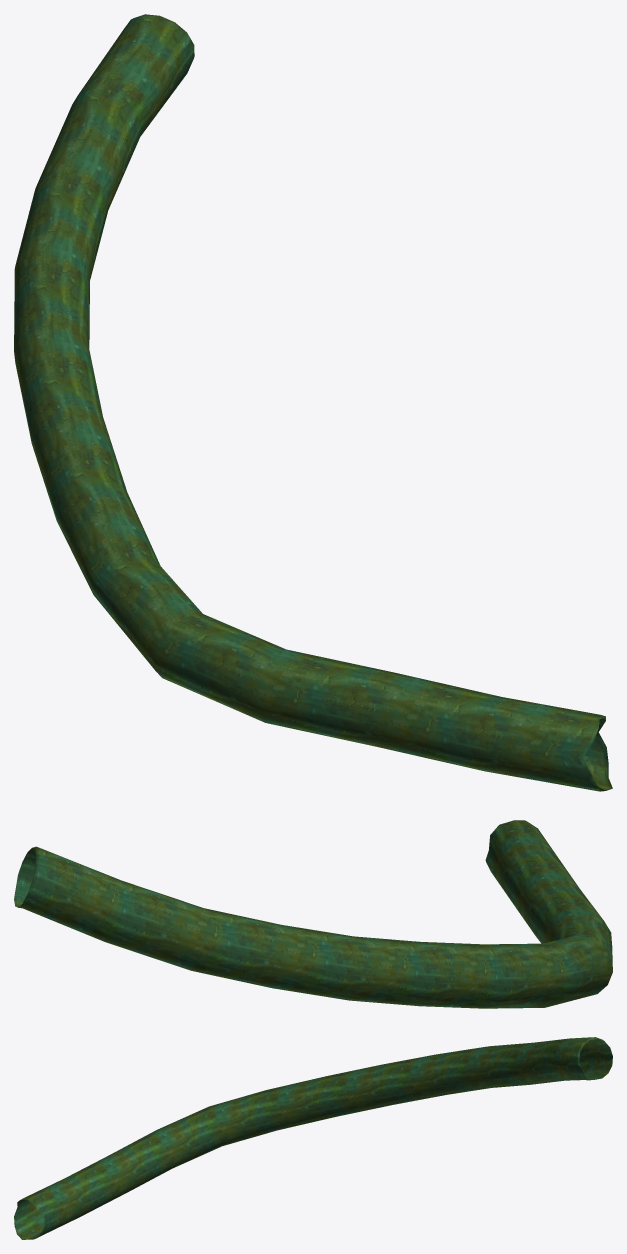
The model's file is MIRKWOOD_TUBE02.fbx.
3 renders of one model, top to bottom at view 1: azimuth 30°, elevation 25°; view 2: azimuth 150°, elevation 25°; view 3: azimuth 270°, elevation 25°, orthographic. The views are drawn at different scales.
Parts seen in each view (by area): view 1: MIRKWOOD_TUBE02; view 2: MIRKWOOD_TUBE02; view 3: MIRKWOOD_TUBE02.
Boxes of the visible parts, x1,y1,x2,y2 form: MIRKWOOD_TUBE02: (14,14,612,791); MIRKWOOD_TUBE02: (14,820,612,1008); MIRKWOOD_TUBE02: (14,1037,612,1239).
Size of the model in its own units: 378671 by 370583 by 930180.
1 material, 1 textured.
